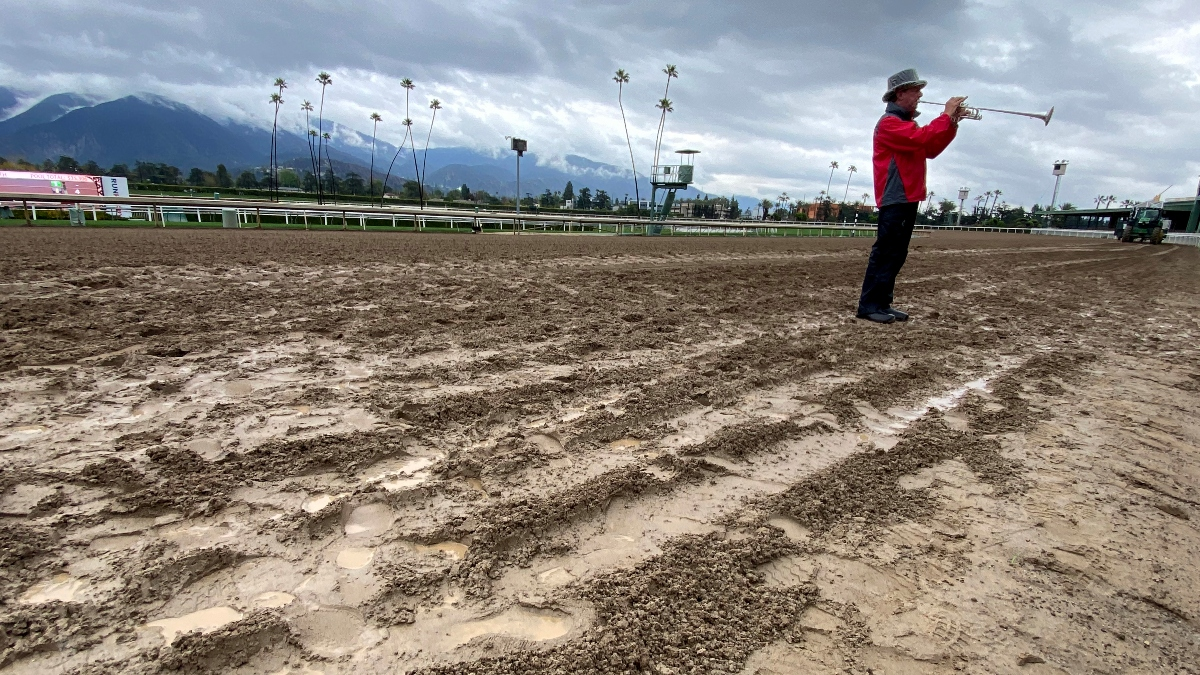Person: (857, 69, 969, 324)
